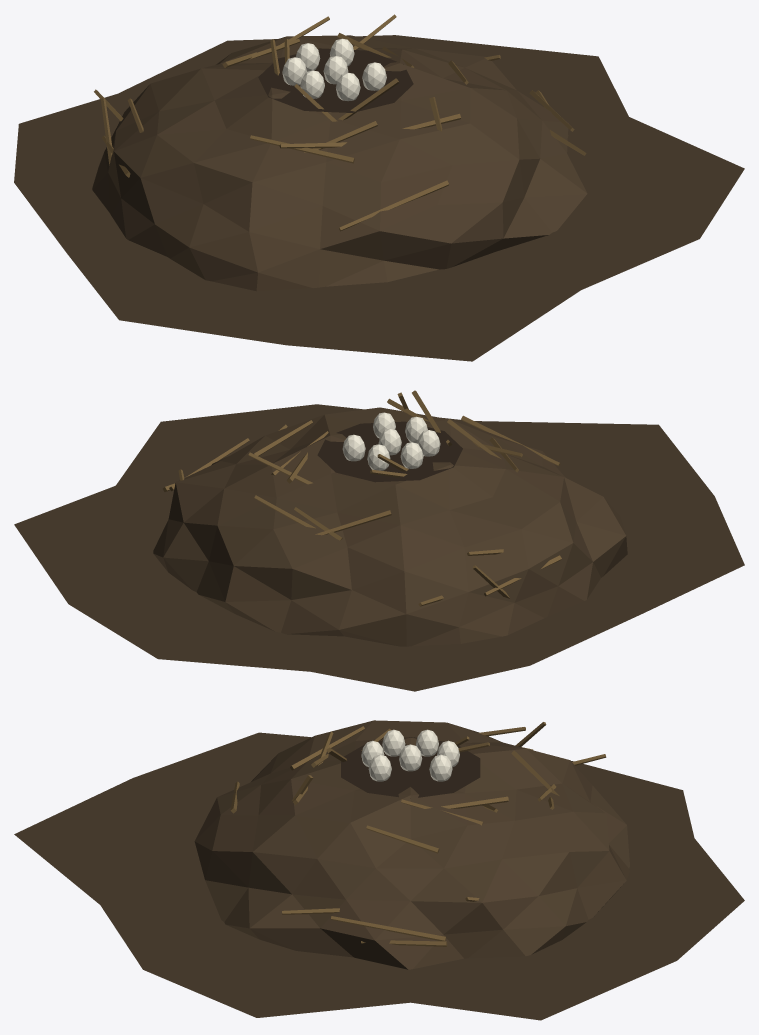
File: SW_Habitat_GatorNest.obj
The picture shows the model from 3 angles, top to bottom: view 1: azimuth 30°, elevation 25°; view 2: azimuth 150°, elevation 25°; view 3: azimuth 270°, elevation 25°; orthographic projection. The views are drawn at different scales.
Parts seen in each view (by area): view 1: mound, mud, hollow, egg_1, egg_2; view 2: mound, mud, hollow, egg_6, egg_4; view 3: mound, mud, hollow, stick_21, egg_1, egg_6, egg_0, egg_3.
Boxes of the visible parts, left/top/right/bottom form: mound: left=92, top=35, right=587, bottom=291; mud: left=14, top=35, right=744, bottom=361; hollow: left=258, top=48, right=413, bottom=112; egg_1: left=362, top=62, right=386, bottom=90; egg_2: left=336, top=72, right=360, bottom=101; mound: left=153, top=407, right=627, bottom=646; mud: left=14, top=404, right=744, bottom=691; hollow: left=317, top=421, right=462, bottom=482; egg_6: left=342, top=434, right=365, bottom=461; egg_4: left=400, top=442, right=423, bottom=468; mound: left=194, top=720, right=629, bottom=969; mud: left=14, top=732, right=744, bottom=1020; hollow: left=341, top=737, right=480, bottom=798; stick_21: left=331, top=916, right=446, bottom=941; egg_1: left=368, top=754, right=391, bottom=781; egg_6: left=429, top=754, right=452, bottom=781; egg_0: left=399, top=744, right=422, bottom=771; egg_3: left=382, top=729, right=405, bottom=756.
Bounding box in the file's own units: 15.81 × 3.34 × 16.96.
